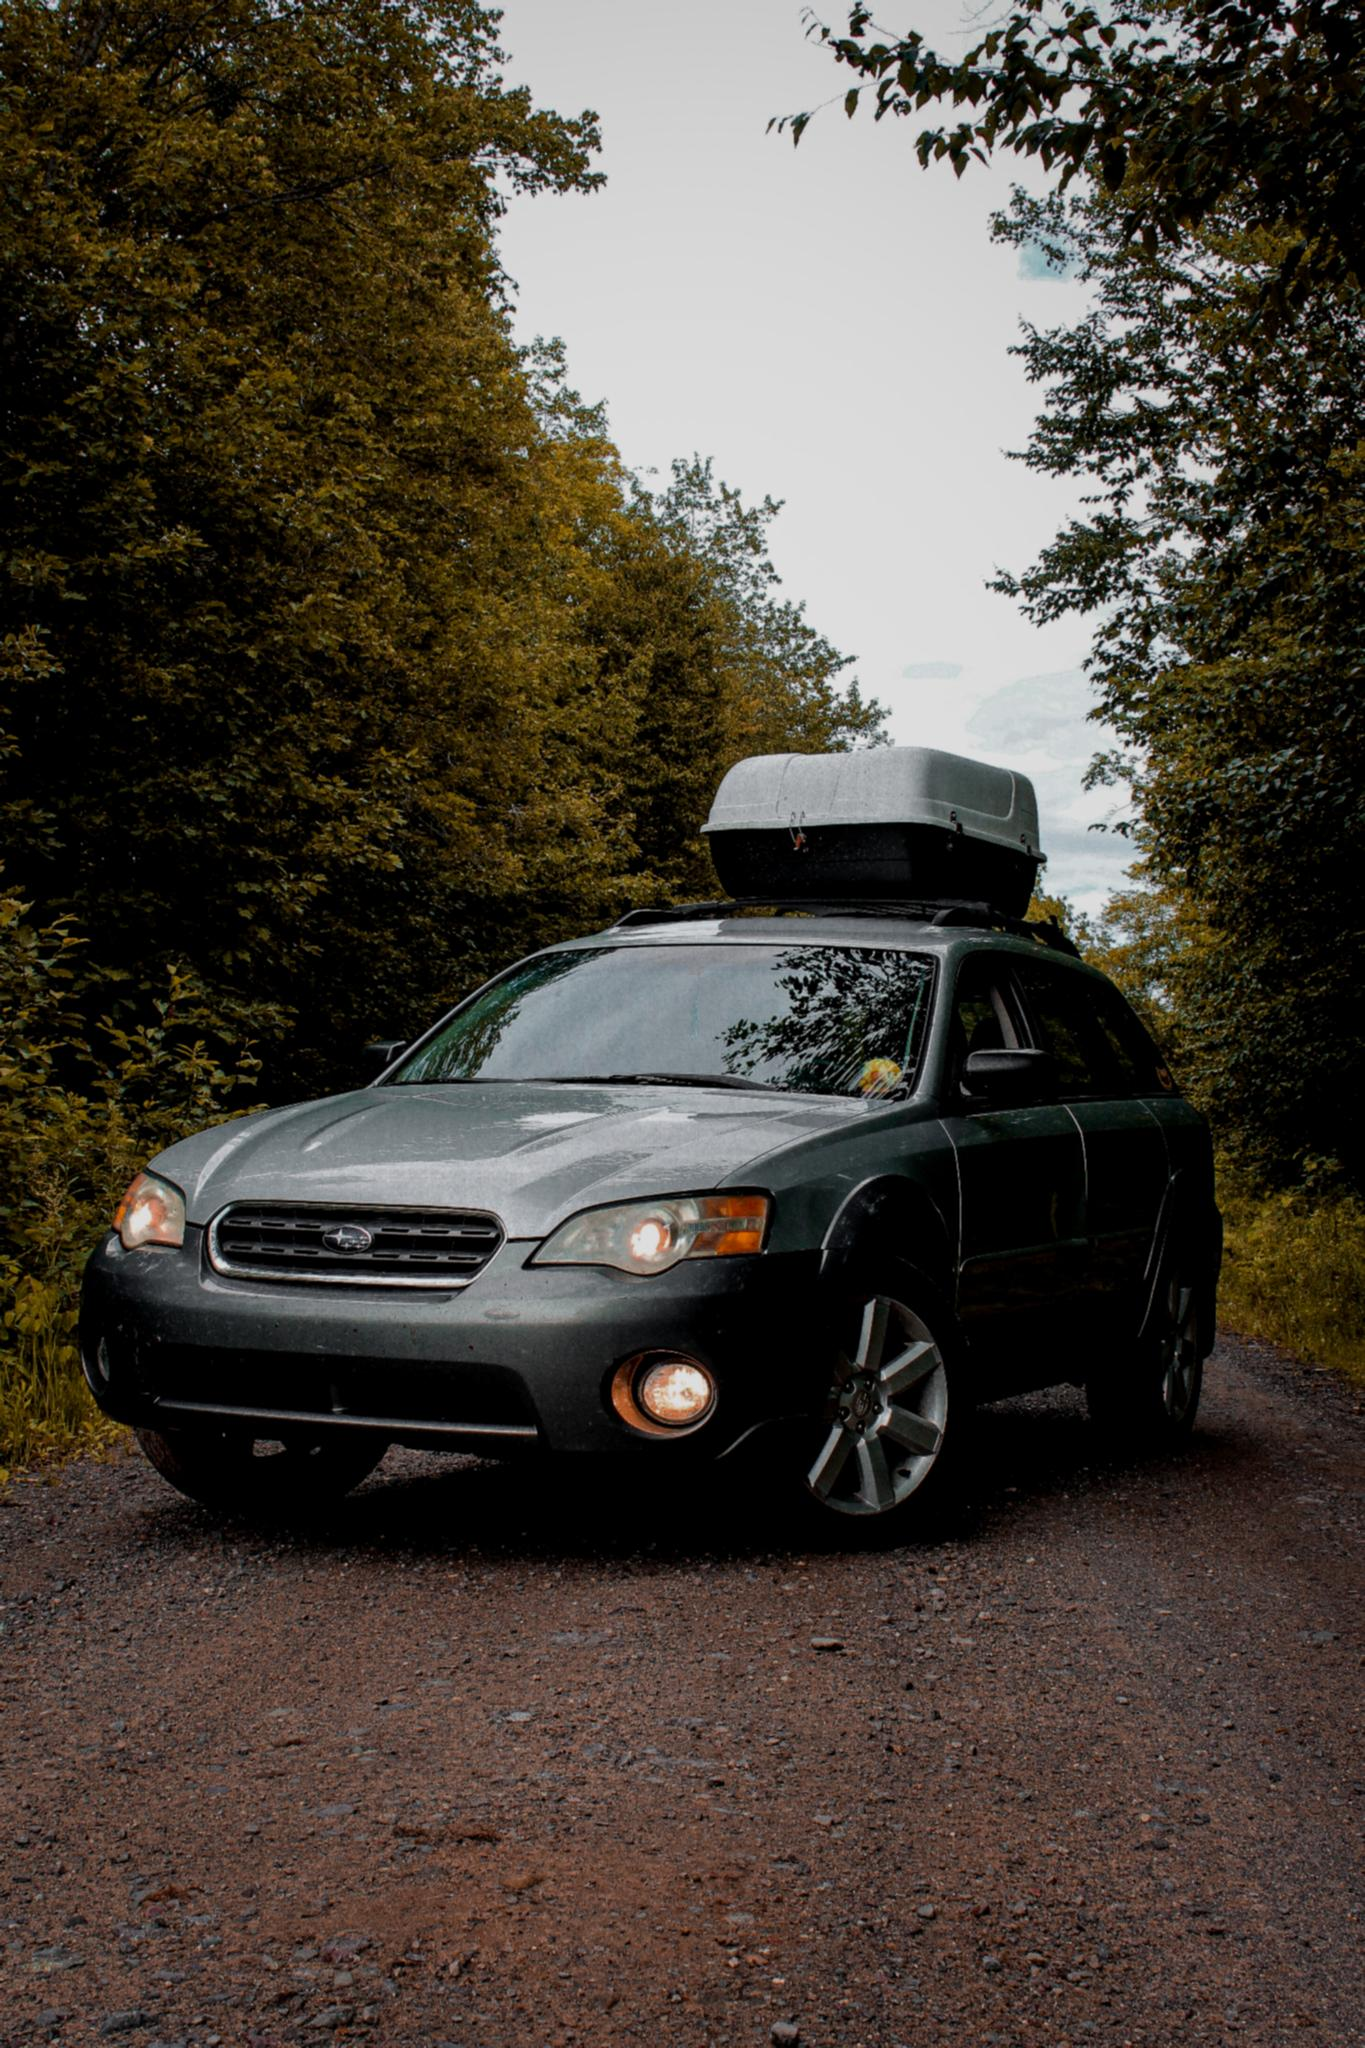subaru: (292, 1206, 393, 1270)
